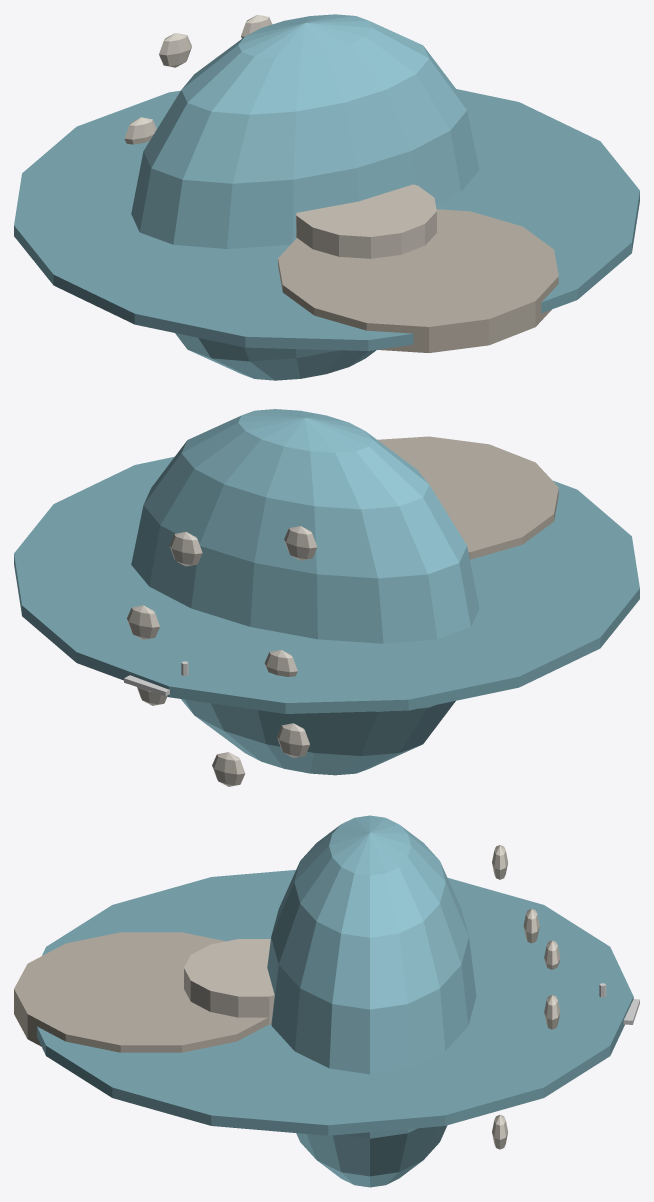
File: tower_blue_outer.fbx
The picture shows the model from 3 angles, top to bottom: view 1: azimuth 30°, elevation 25°; view 2: azimuth 150°, elevation 25°; view 3: azimuth 270°, elevation 25°; orthographic projection. The views are drawn at different scales.
Parts seen in each view (by area): view 1: Top_Cap, Body; view 2: Top_Cap, Body; view 3: Top_Cap, Body.
Boxes of the visible parts, box(x1,y1,x2,y2) form: Top_Cap: box(14, 14, 639, 380); Body: box(278, 184, 558, 352); Top_Cap: box(14, 409, 639, 786); Body: box(377, 436, 558, 559); Top_Cap: box(37, 815, 633, 1187); Body: box(14, 932, 274, 1052).
Size of the model in its own units: 262 by 160 by 269.
